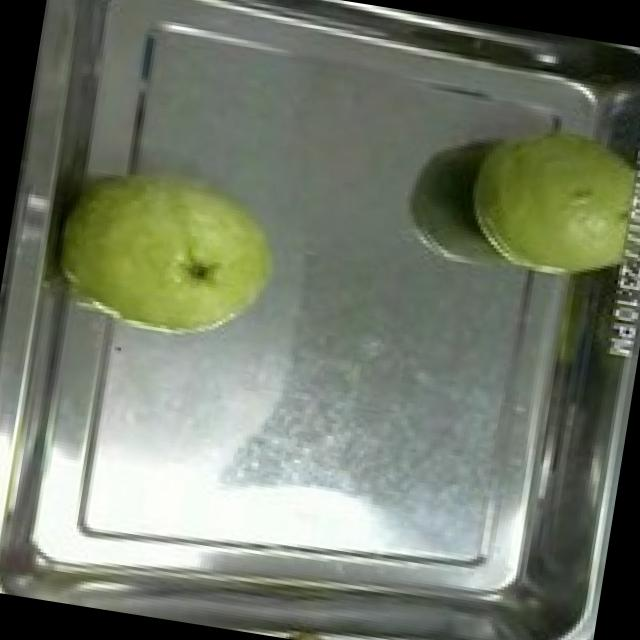Fruit: (39, 148, 300, 364), (447, 92, 640, 303)
